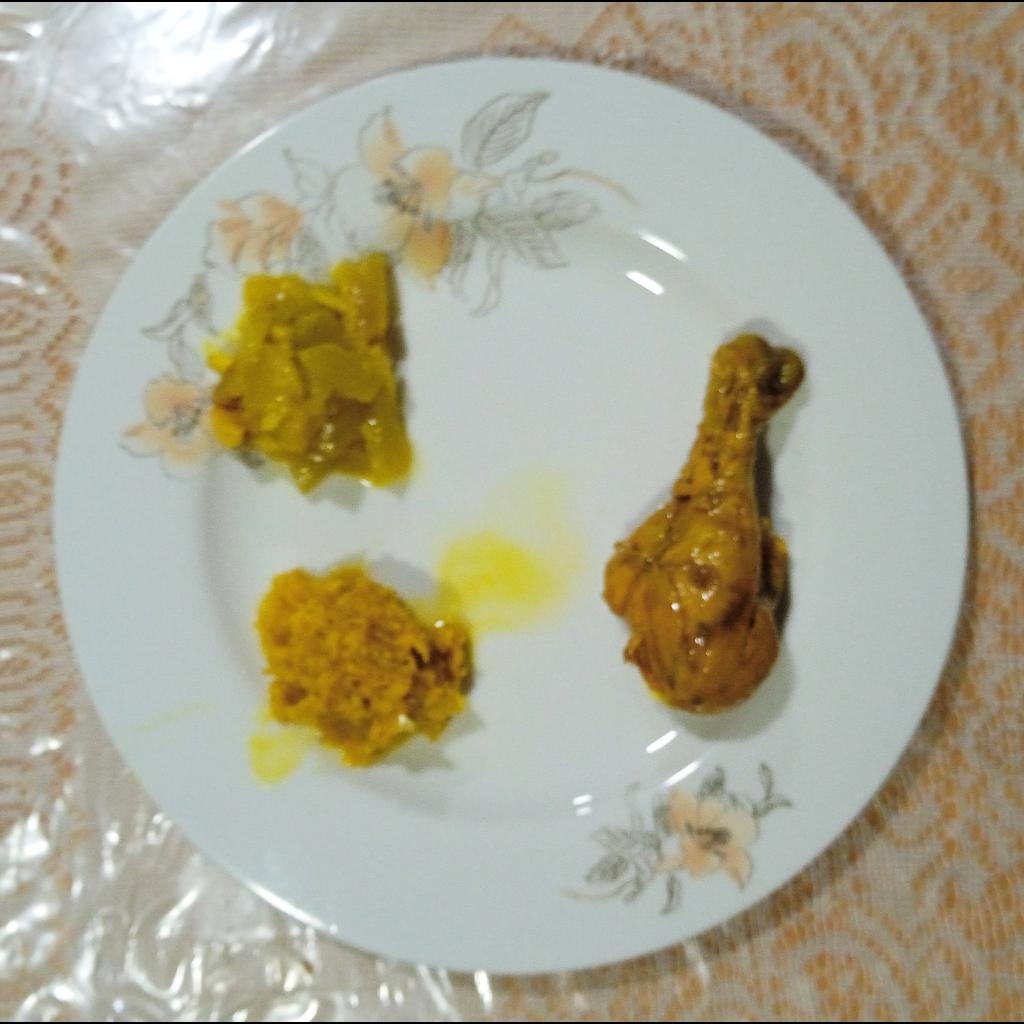cabbage: (253, 563, 473, 772)
chicken: (601, 331, 805, 719)
lau: (208, 249, 407, 494)
